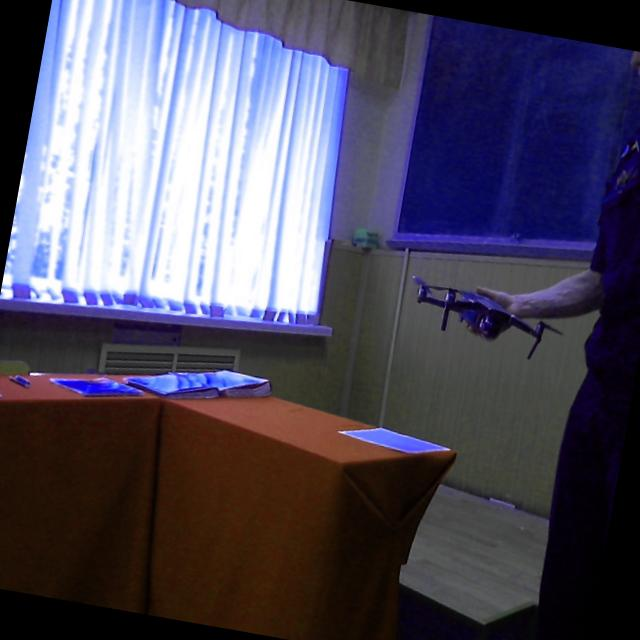drone: (387, 249, 568, 368)
